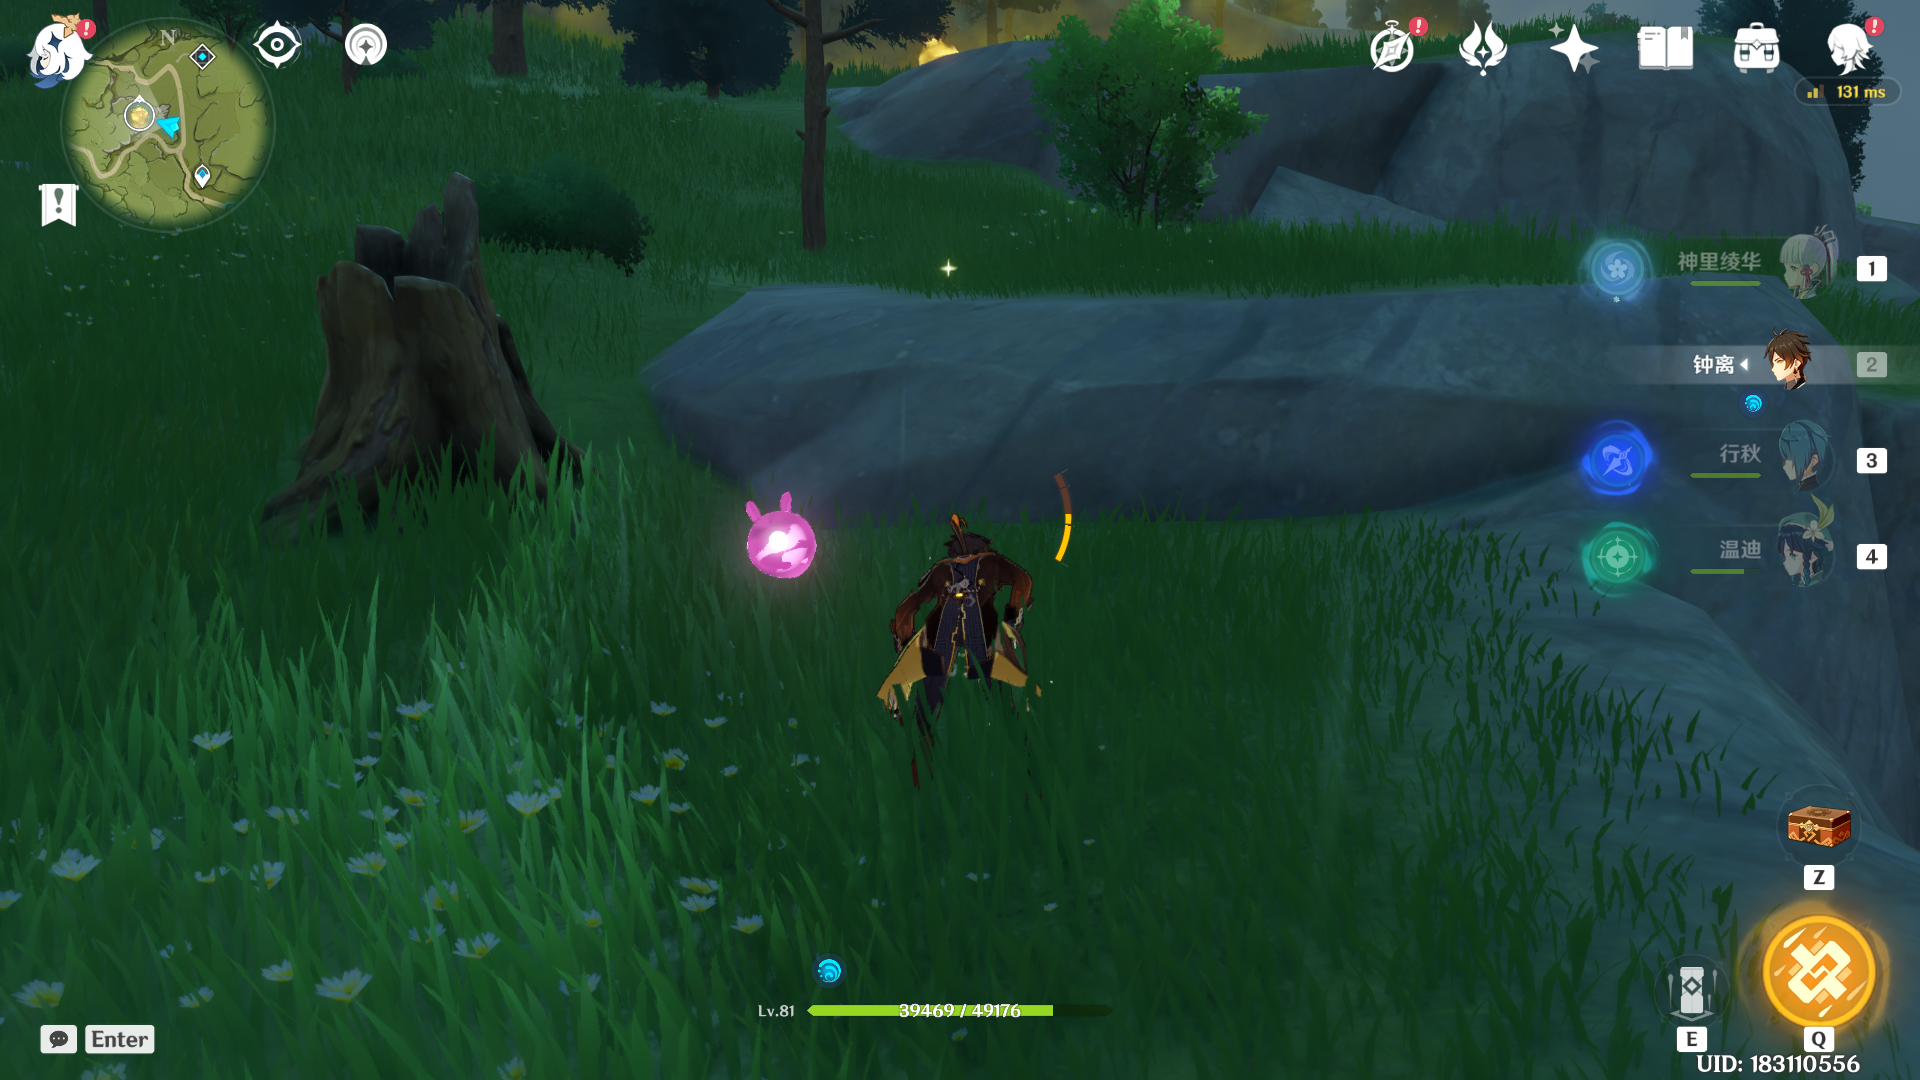character: (832, 469, 1065, 814)
